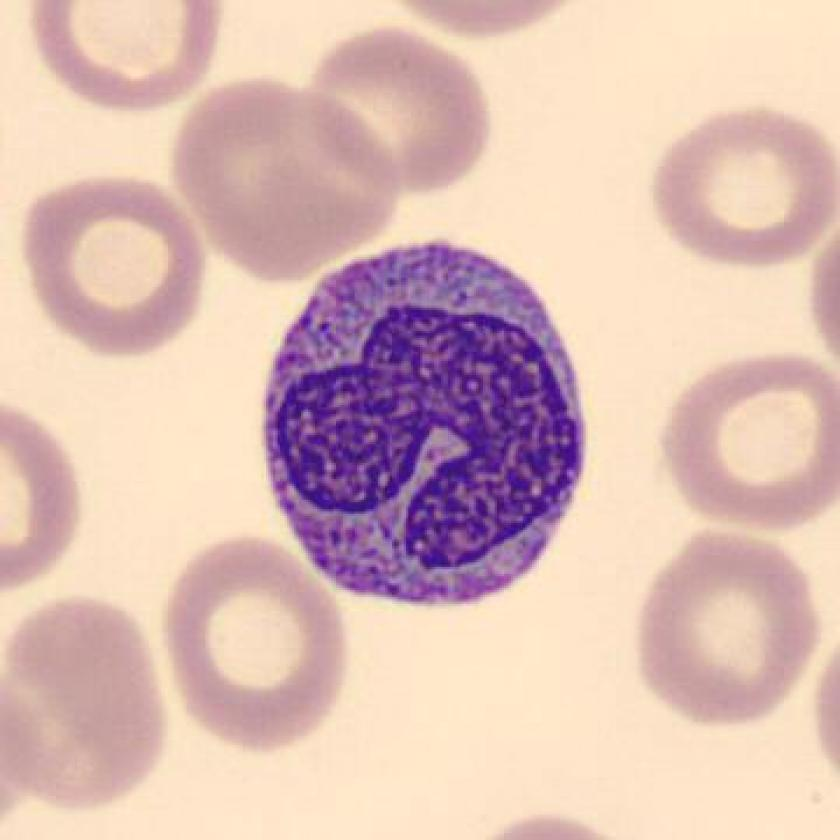monocyte: (246, 221, 603, 628)
